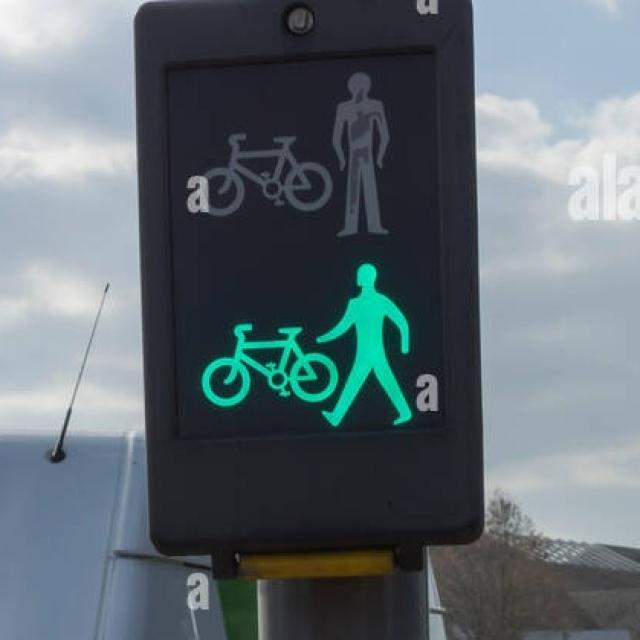green_light: (320, 256, 412, 426)
